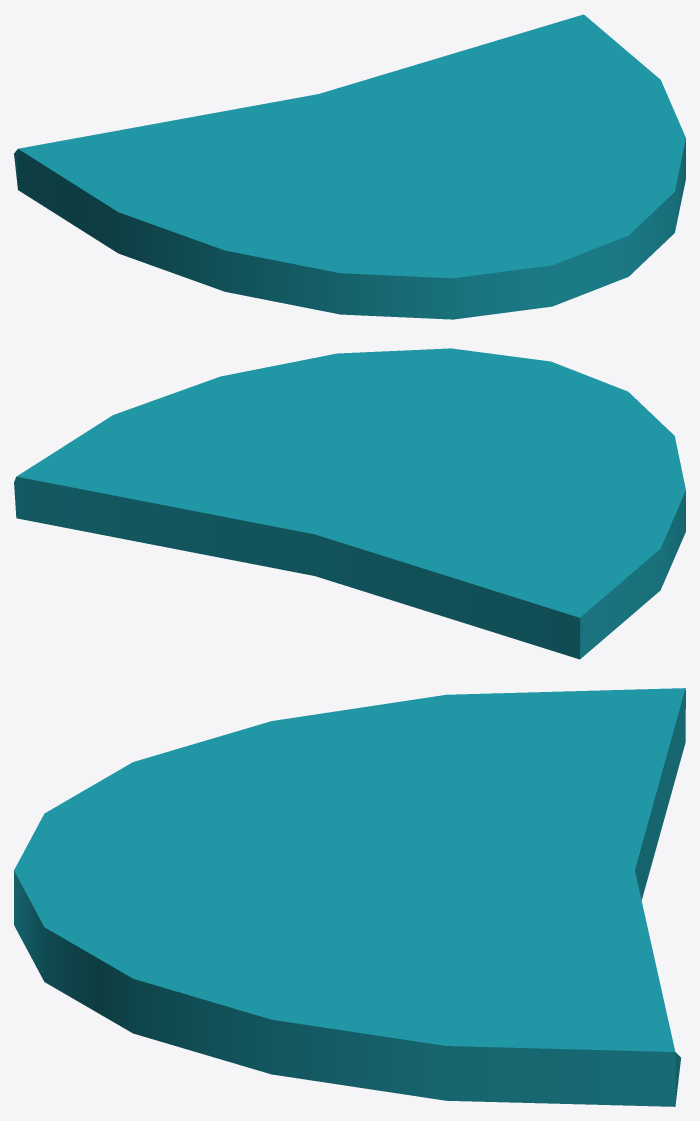
Rendered from Tank_Attach.fbx.
The picture shows the model from 3 angles, top to bottom: view 1: azimuth 30°, elevation 25°; view 2: azimuth 150°, elevation 25°; view 3: azimuth 270°, elevation 25°; orthographic projection. The views are drawn at different scales.
Visible parts, largest first — view 1: Tank_Attach; view 2: Tank_Attach; view 3: Tank_Attach.
Part boxes in pixels (x1=…): Tank_Attach: x1=14, y1=14, x2=685, y2=319; Tank_Attach: x1=14, y1=348, x2=685, y2=659; Tank_Attach: x1=14, y1=688, x2=685, y2=1106.
Bounding box in the file's own units: 2.27 × 0.1584 × 1.76.
